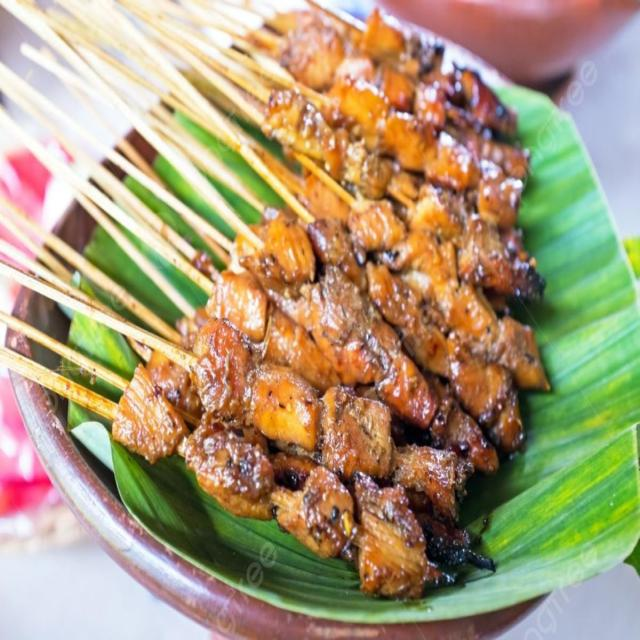Sate: (58, 0, 511, 596)
